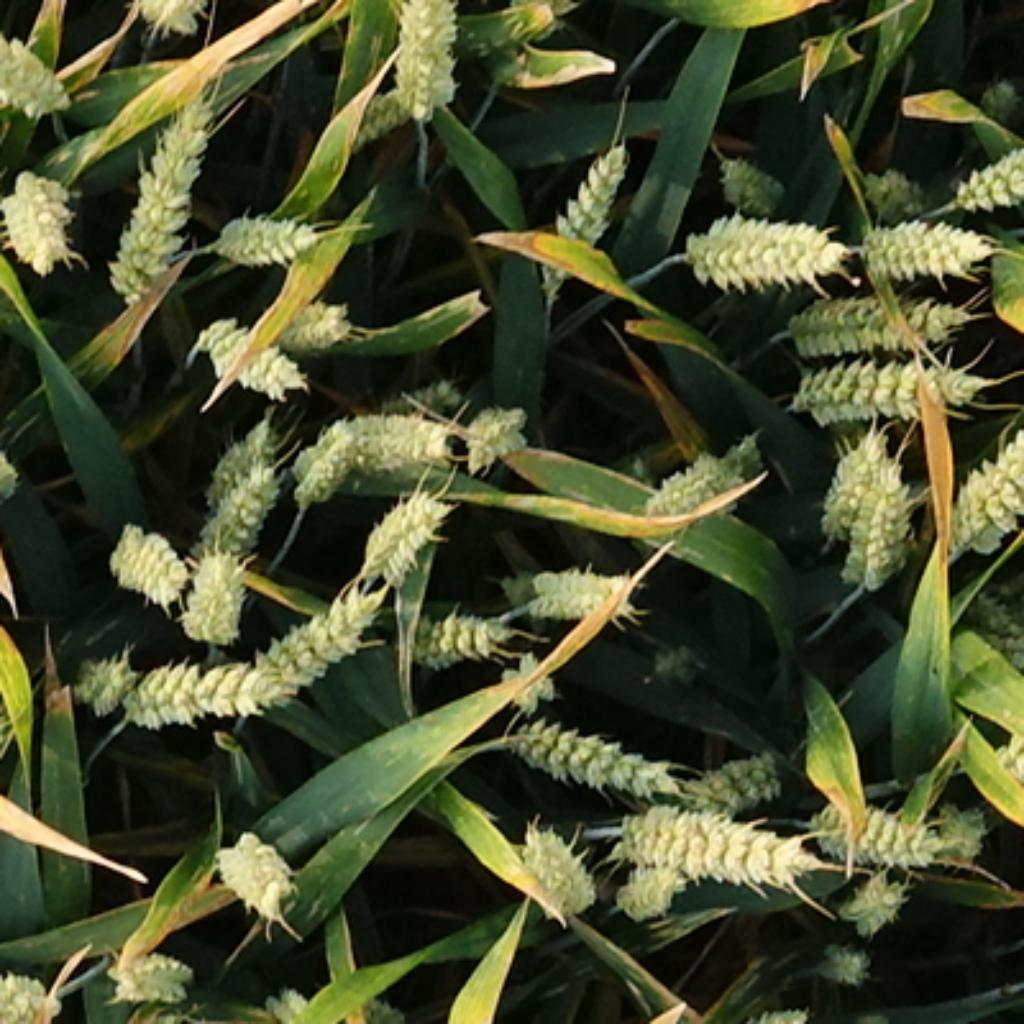0-0: (102, 92, 212, 304), (220, 570, 381, 714), (611, 793, 819, 888), (529, 130, 640, 299), (97, 642, 322, 724), (496, 698, 675, 793), (775, 340, 990, 419), (675, 199, 849, 286), (632, 422, 770, 527), (192, 419, 286, 552), (936, 404, 1021, 550), (775, 284, 962, 350), (847, 453, 929, 599), (811, 424, 896, 560), (806, 783, 952, 860), (376, 2, 468, 117), (849, 207, 990, 279), (337, 409, 465, 486), (194, 304, 307, 391), (271, 417, 368, 517), (358, 478, 448, 576), (509, 811, 599, 908), (514, 550, 640, 619), (207, 814, 299, 908), (391, 591, 509, 663), (350, 79, 460, 156), (4, 169, 80, 277), (0, 2, 74, 112), (207, 197, 325, 263), (680, 739, 791, 806), (99, 512, 189, 593), (176, 542, 250, 637), (104, 934, 197, 1000), (371, 363, 473, 417), (611, 847, 691, 913), (949, 145, 1024, 215), (268, 289, 353, 350), (714, 143, 791, 204), (458, 394, 529, 460), (972, 576, 1024, 665), (957, 64, 1024, 133), (921, 793, 993, 857), (857, 158, 939, 212), (69, 645, 135, 711), (837, 865, 906, 926), (0, 965, 58, 1024), (253, 983, 330, 1024), (645, 637, 709, 686), (806, 934, 872, 980), (120, 2, 215, 30), (732, 993, 811, 1024), (120, 998, 192, 1024), (0, 1021, 7, 1024)
